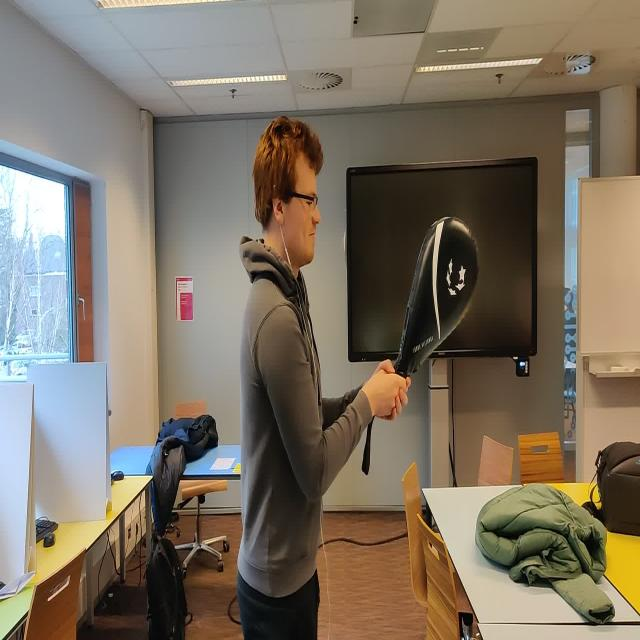paddle: (393, 217, 479, 378)
